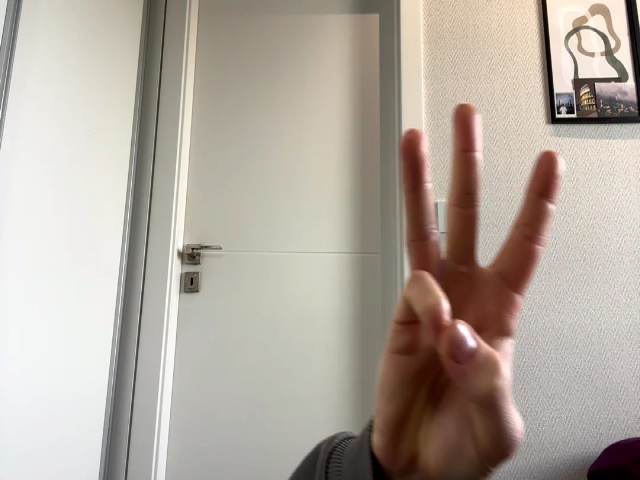W: (377, 104, 559, 457)
